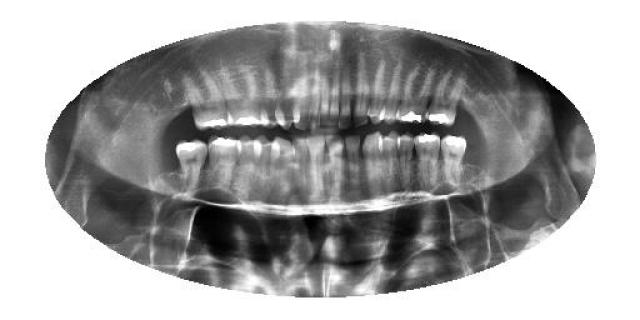Fillings: (188, 71, 232, 130), (423, 71, 468, 125), (221, 69, 264, 125), (395, 66, 433, 125), (208, 138, 244, 192), (176, 140, 208, 188), (414, 132, 441, 188), (442, 135, 468, 185)
